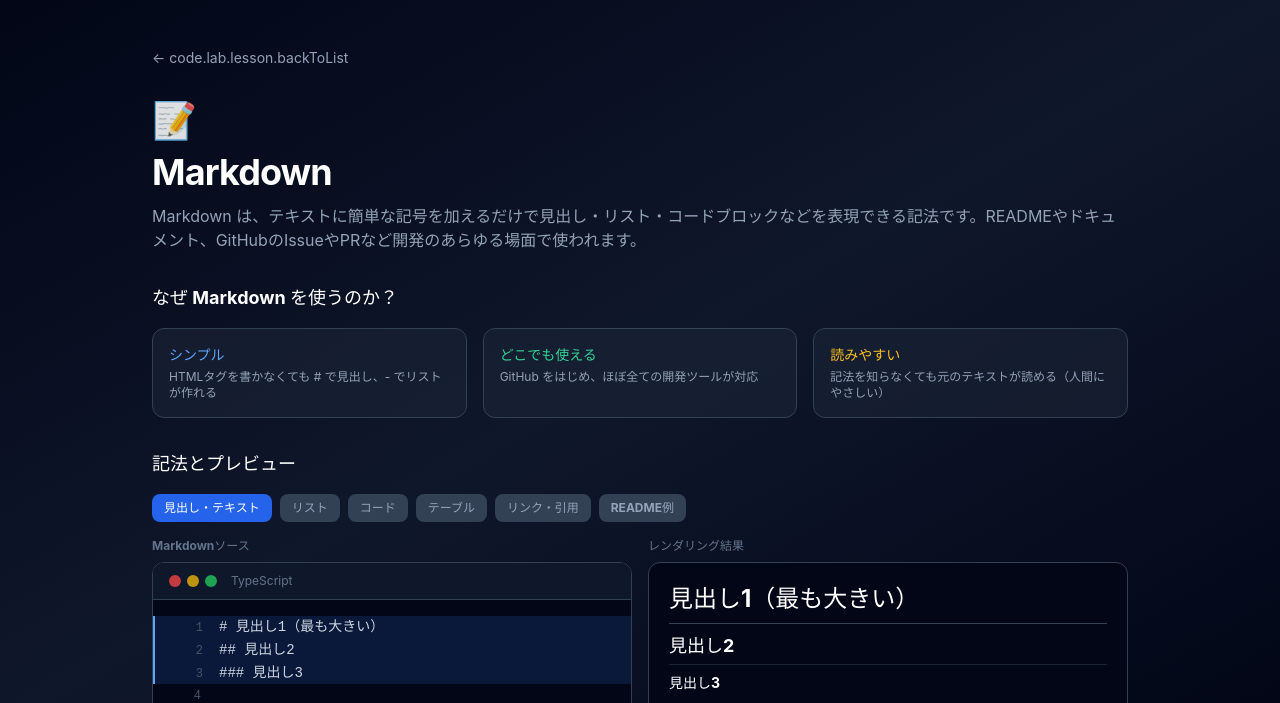
it: MarkdownLesson interactions › should switch to Lists section when clicking tab button
The width and height of the screenshot is (1280, 703).
Click the button "リスト" at (310, 508), box top-left (280, 494), bottom-right (340, 522)
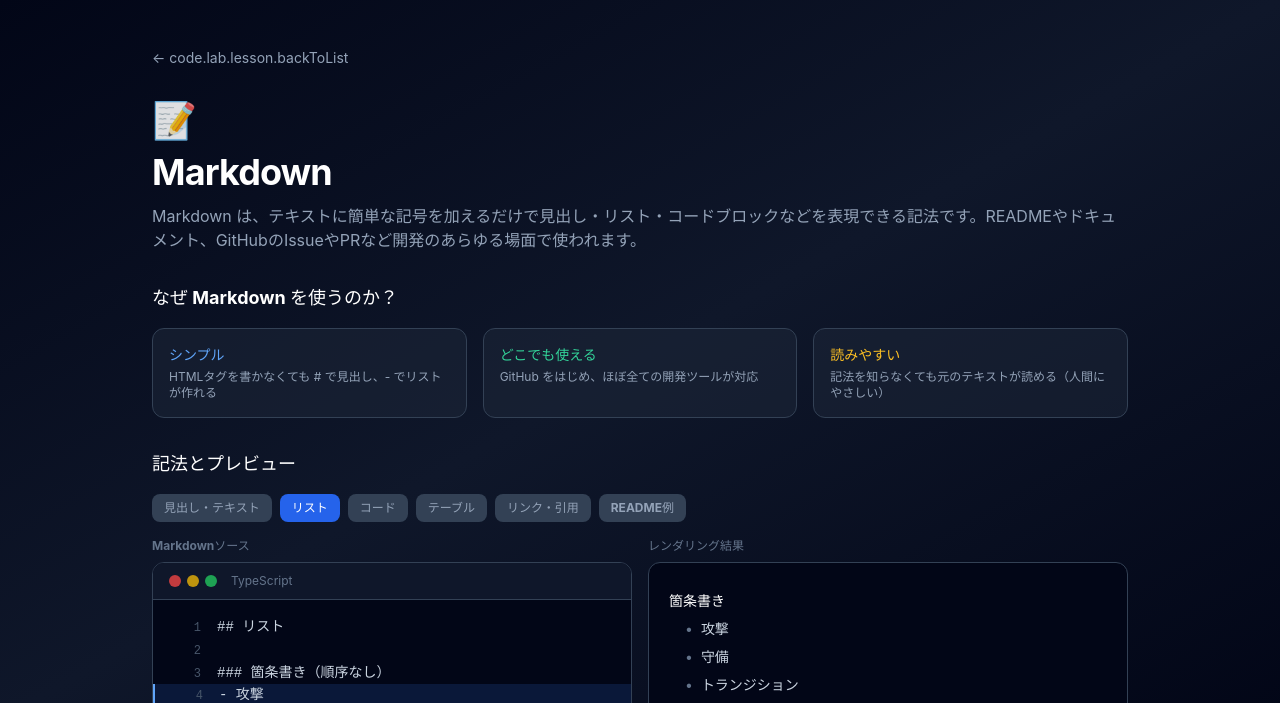
Expected: the text "攻撃" is shown, top-left (701, 620), bottom-right (729, 637)
